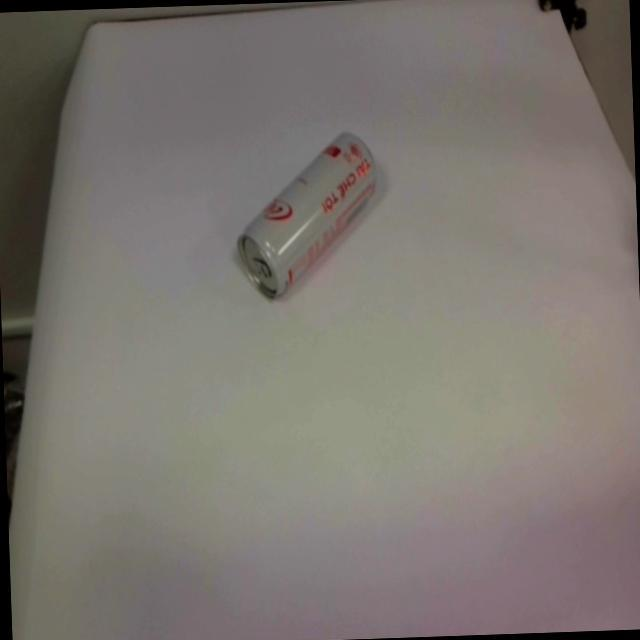debris: (228, 129, 382, 303)
